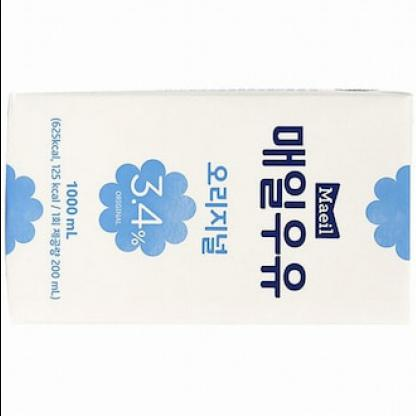tetra: (2, 54, 416, 362)
